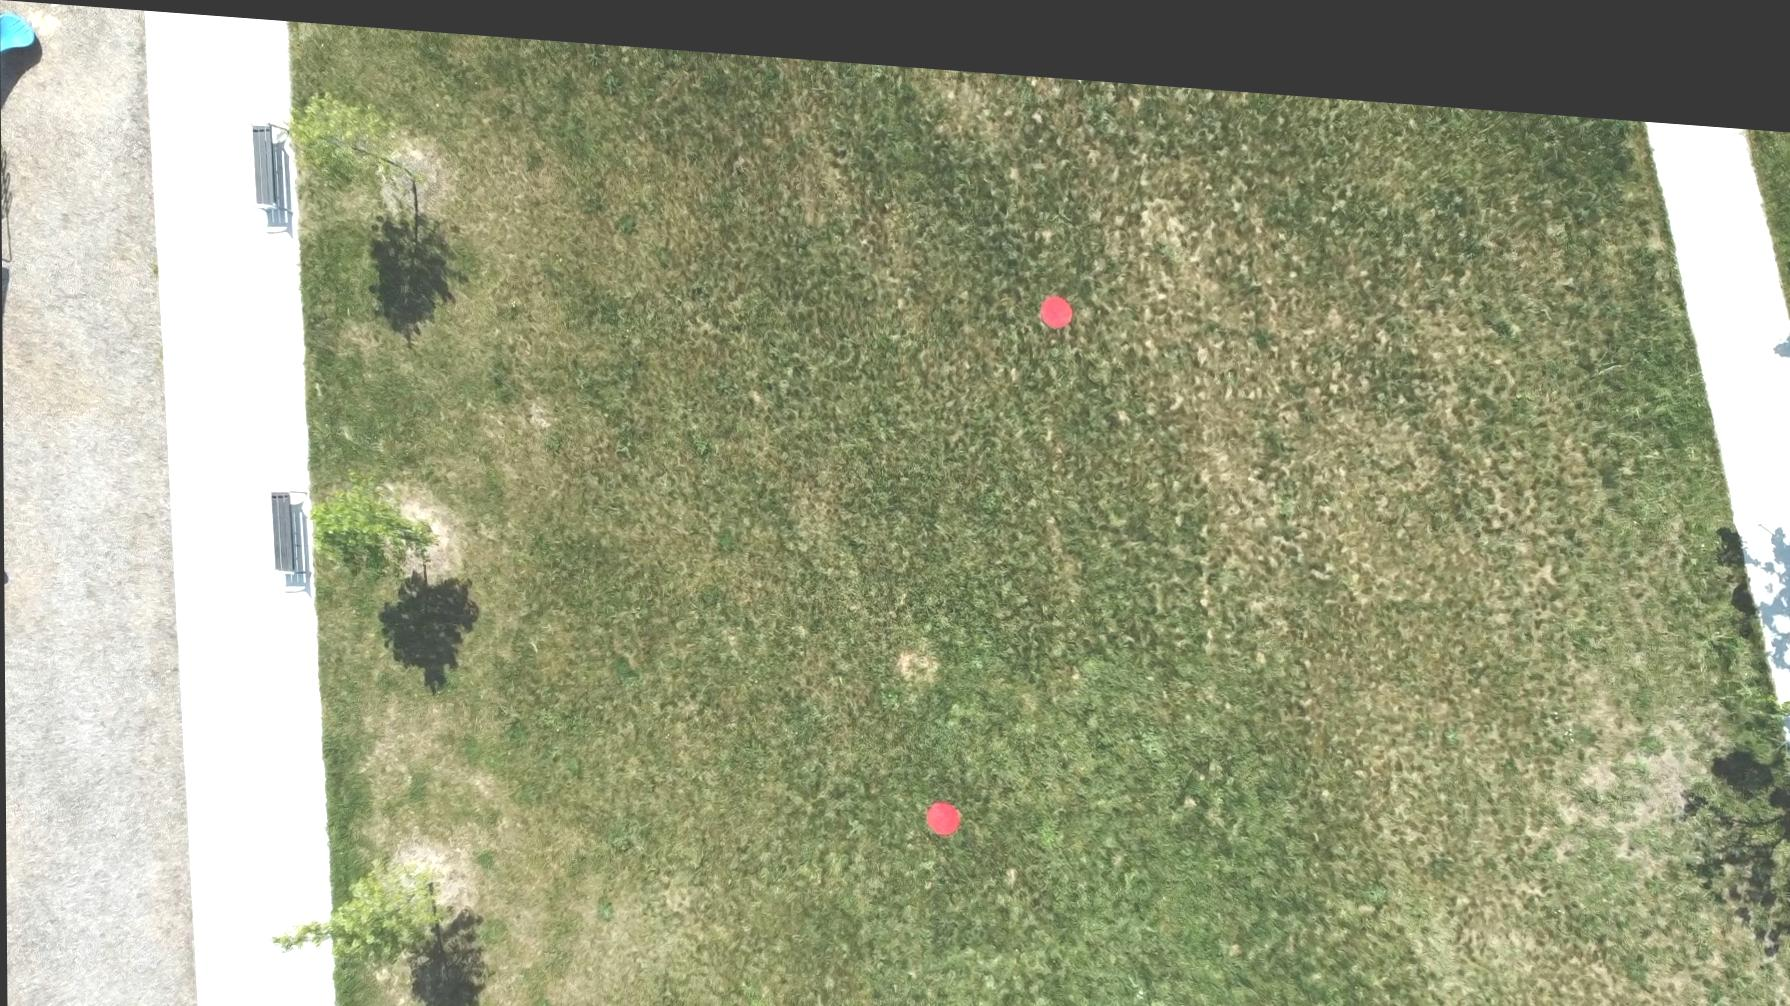Red: (923, 782, 963, 825), (1035, 275, 1074, 315)
